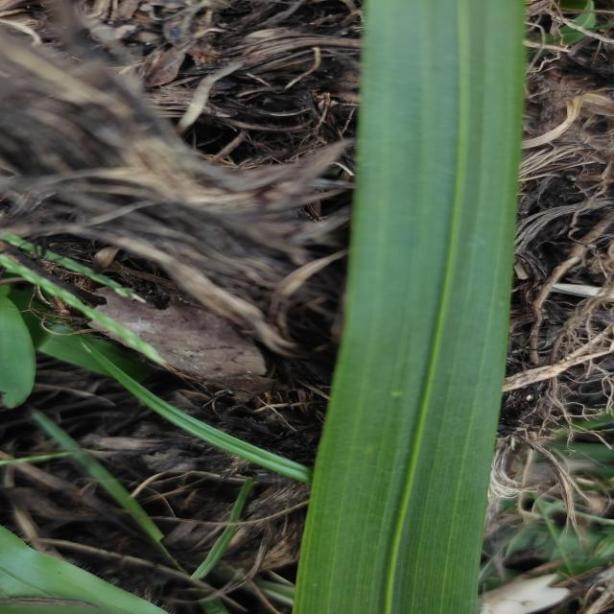Healthy: (292, 0, 530, 614)
